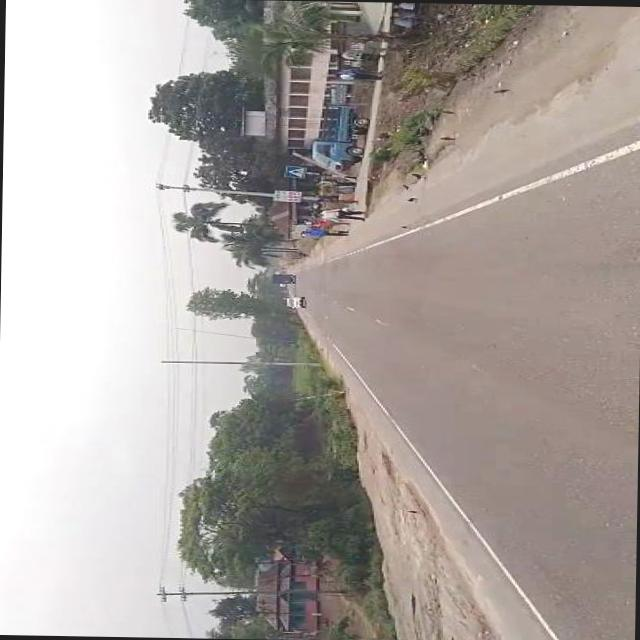car: (283, 294, 303, 306)
motorcycle: (291, 250, 303, 254)
truck: (310, 103, 363, 170), (269, 272, 294, 282)
